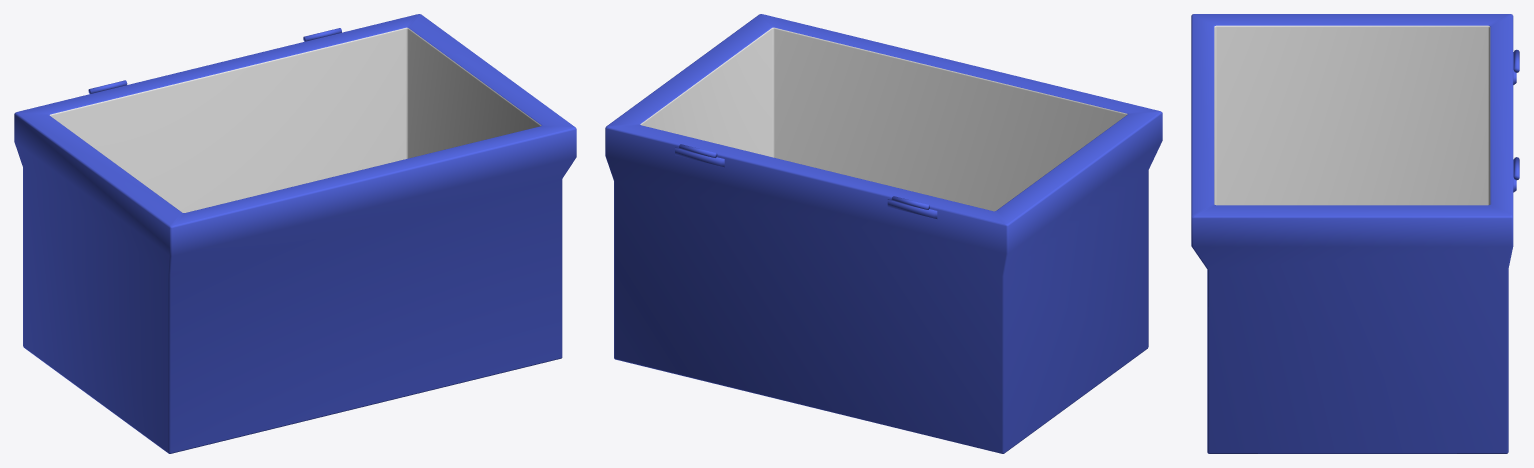
Rendered from IceBoxBase.fbx.
3 views of the same model, side by side, from view 1: azimuth 30°, elevation 25°; view 2: azimuth 150°, elevation 25°; view 3: azimuth 270°, elevation 25° (orthographic). The views are drawn at different scales.
Parts seen in each view (by area): view 1: IceBoxBase_Geo; view 2: IceBoxBase_Geo; view 3: IceBoxBase_Geo.
Part boxes in pixels (left/top/right/bottom): IceBoxBase_Geo: left=14, top=14, right=576, bottom=453; IceBoxBase_Geo: left=605, top=14, right=1162, bottom=453; IceBoxBase_Geo: left=1191, top=14, right=1519, bottom=453.
Bounding box in the file's own units: 702 × 392 × 479.
